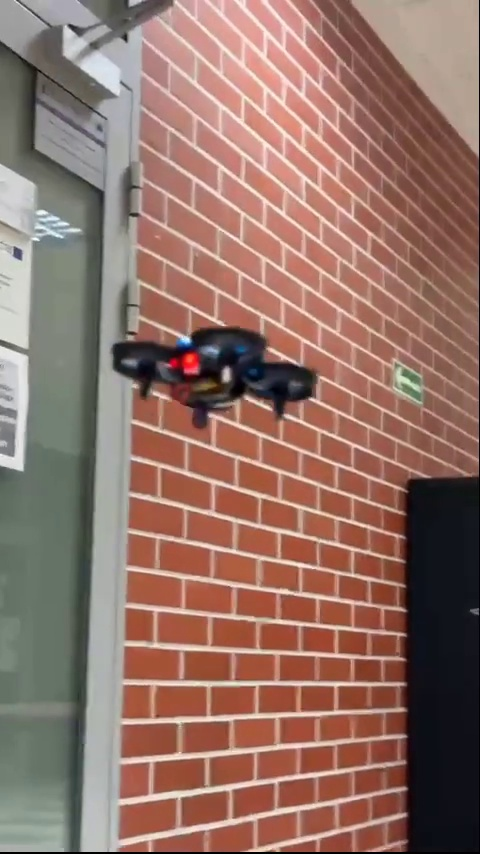drone: (115, 325, 317, 426)
